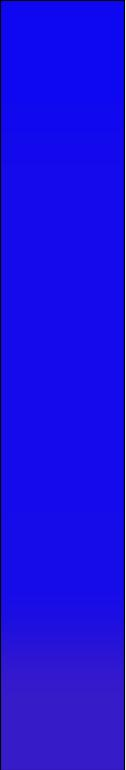safe: (10, 14, 118, 759)
